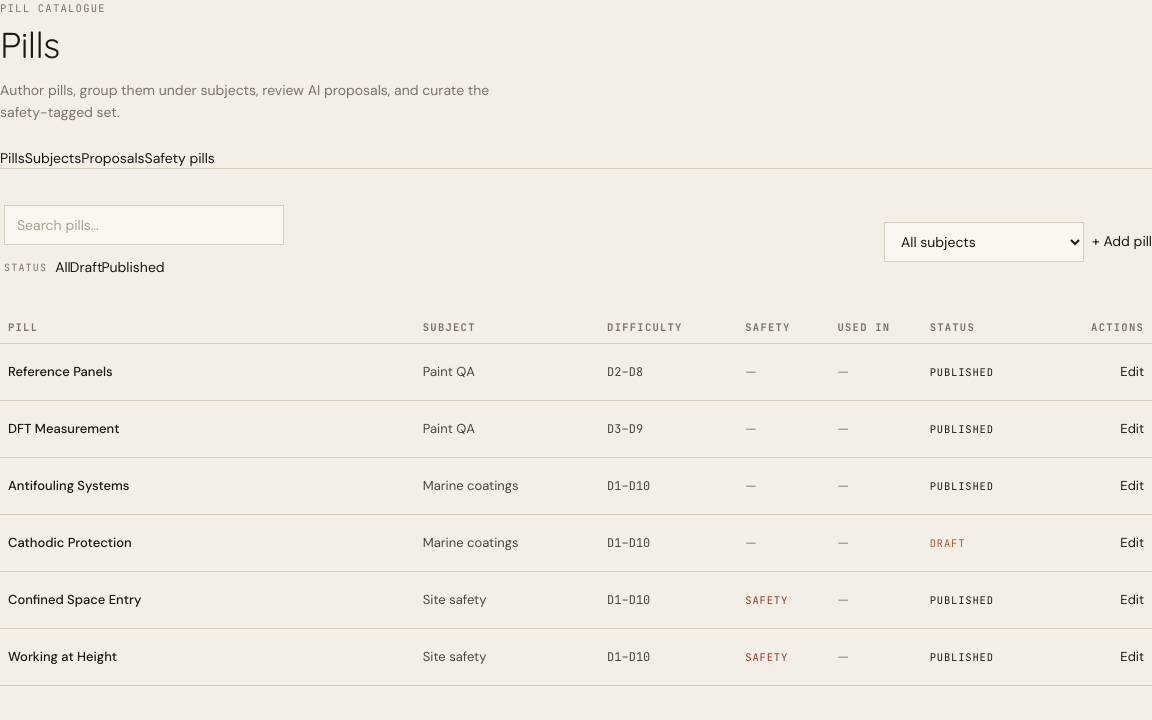
Scenario: pills tab — edit modal › opens edit modal with pill pre-filled and subject read-only
The width and height of the screenshot is (1152, 720).
Expected: the text "Reference Panels" is shown, [0,344,415,401]
Click the button "Edit" in the row of "Reference Panels": (1132, 372) [1120,354,1144,390]
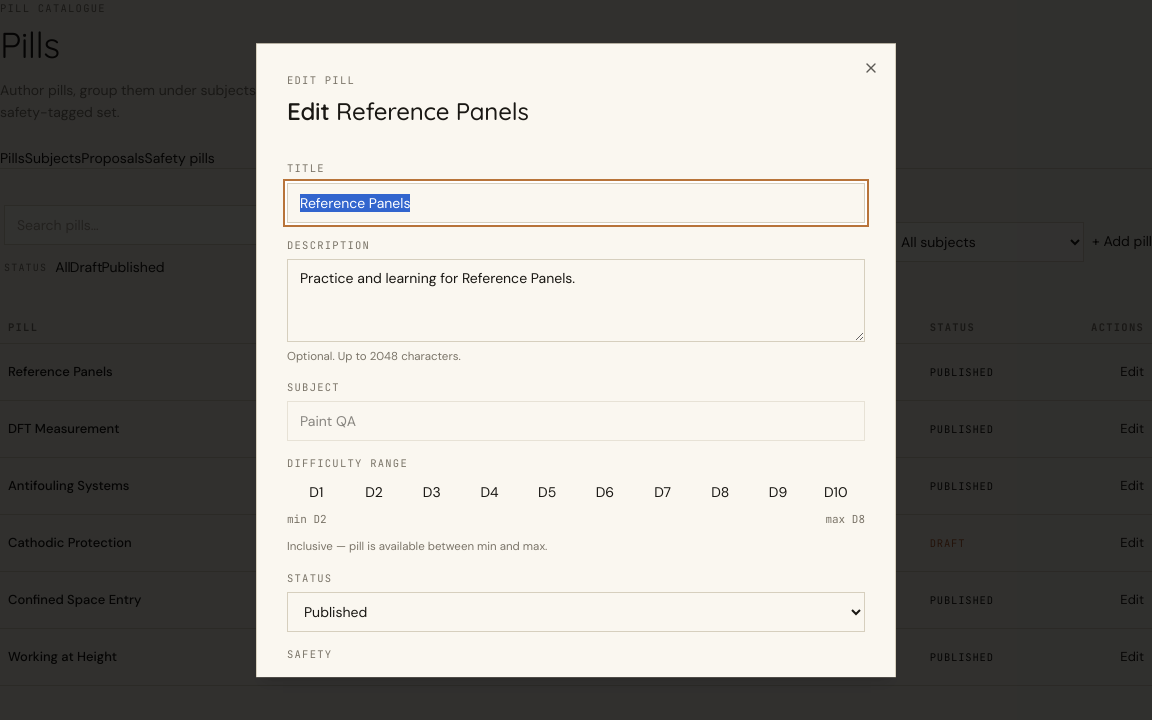
Result: the field with test id "pill-modal-name" holds "Reference Panels" at [287,183,865,223]
Result: the field with test id "pill-modal-subject-readonly" is disabled at [287,402,865,442]
Result: the field with test id "pill-modal-subject-readonly" holds "Paint QA" at [287,402,865,442]
